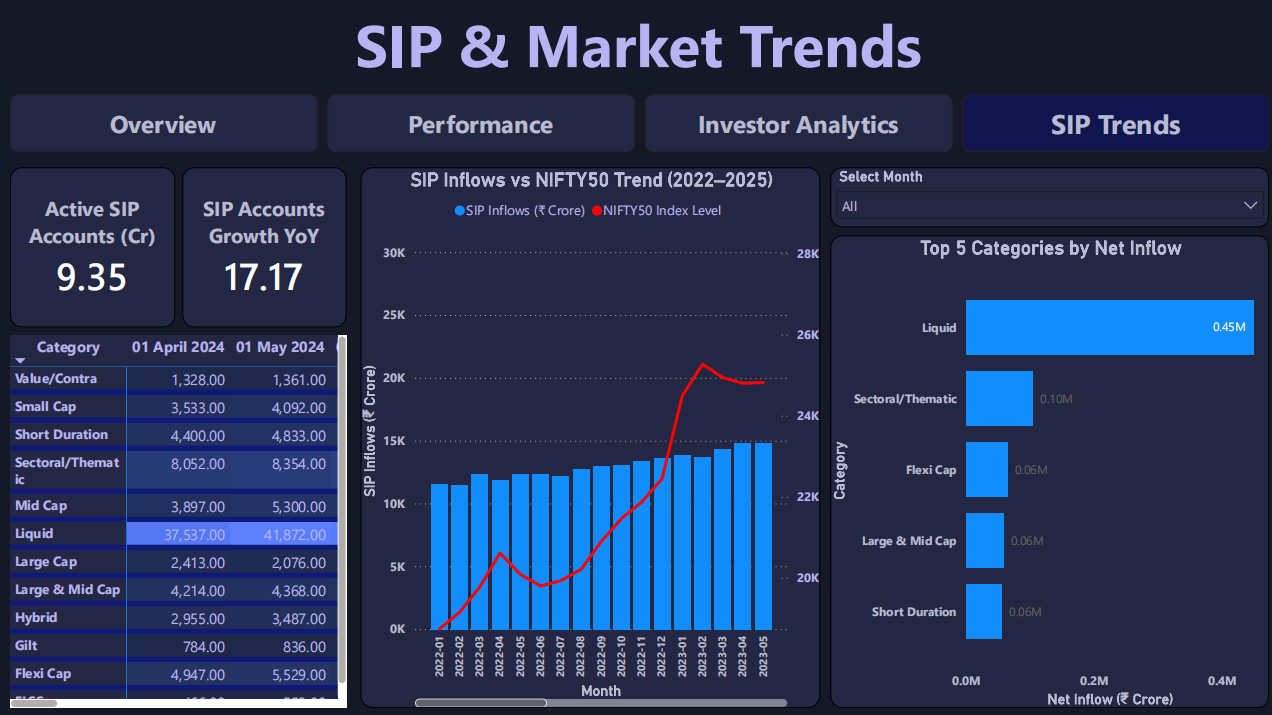

The dashboard page shown, as its layout file describes it:
{"tool":"powerbi","page":{"name":"SIP Trends","canvas":[1280,720],"ordinal":3},"visuals":[{"type":"textbox","box":[125.2,1.4,1028.5,96.4],"z":0},{"type":"pageNavigator","box":[12.3,95.7,1257.7,58],"z":1000},{"type":"cardVisual","fields":{"Data":["public fact_sip_industry.Latest SIP Accounts"]},"box":[12.3,169.3,165,159.5],"z":2000},{"type":"cardVisual","fields":{"Data":["public fact_sip_industry.Latest YoY Growth"]},"box":[184.1,169.3,164.4,159.5],"z":3000},{"type":"lineClusteredColumnComboChart","title":"SIP Inflows vs NIFTY50 Trend (2022–2025)","fields":{"Category":["public fact_sip_industry.month"],"Y":["Sum(public fact_sip_industry.sip_inflow_crore)"],"Y2":["public fact_sip_industry.NIFTY Monthly Value"]},"box":[362,169.3,458.9,539.9],"z":4000},{"type":"pivotTable","fields":{"Rows":["public fact_category_inflows.category"],"Values":["Sum(public fact_category_inflows.net_inflow_crore)"],"Columns":["public fact_category_inflows.month"]},"box":[12.3,337.4,336.2,371.8],"z":5000},{"type":"clusteredBarChart","title":"Top 5 Categories by Net Inflow","fields":{"Category":["public fact_category_inflows.category"],"Y":["Sum(public fact_category_inflows.net_inflow_crore)"]},"box":[830.7,236.8,439.3,472.4],"z":5001},{"type":"slicer","fields":{"Values":["public fact_category_inflows.month"]},"box":[830.7,169.3,439.3,60.1],"z":5002}]}

Visuals, with their boxes in screenshot pixels (x1, y1, x2, y2), scaled from the page's 1280x720 canvas onto the 1272x715 screenshot:
textbox: (left=124, top=1, right=1146, bottom=97)
pageNavigator: (left=12, top=95, right=1262, bottom=153)
cardVisual - public fact_sip_industry.Latest SIP Accounts: (left=12, top=168, right=176, bottom=327)
cardVisual - public fact_sip_industry.Latest YoY Growth: (left=183, top=168, right=346, bottom=327)
"SIP Inflows vs NIFTY50 Trend (2022–2025)" lineClusteredColumnComboChart: (left=360, top=168, right=816, bottom=704)
pivotTable - public fact_category_inflows.category x Sum(public fact_category_inflows.net_inflow_crore): (left=12, top=335, right=346, bottom=704)
"Top 5 Categories by Net Inflow" clusteredBarChart: (left=826, top=235, right=1262, bottom=704)
slicer - public fact_category_inflows.month: (left=826, top=168, right=1262, bottom=228)
